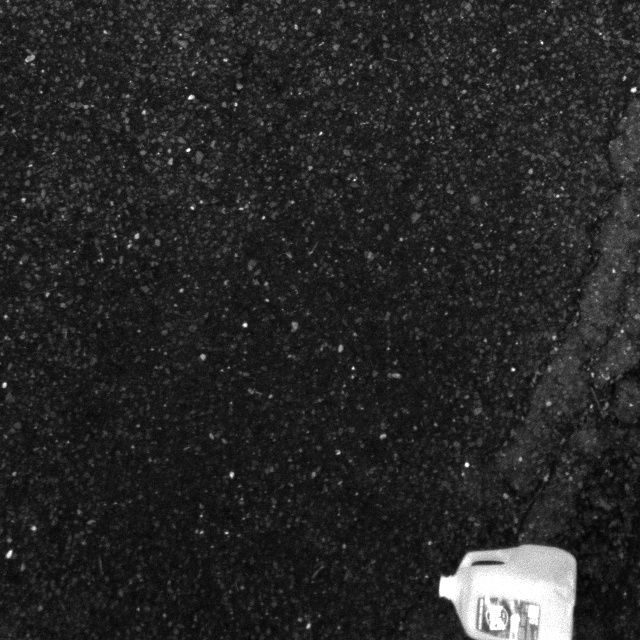can: (427, 538, 583, 639)
